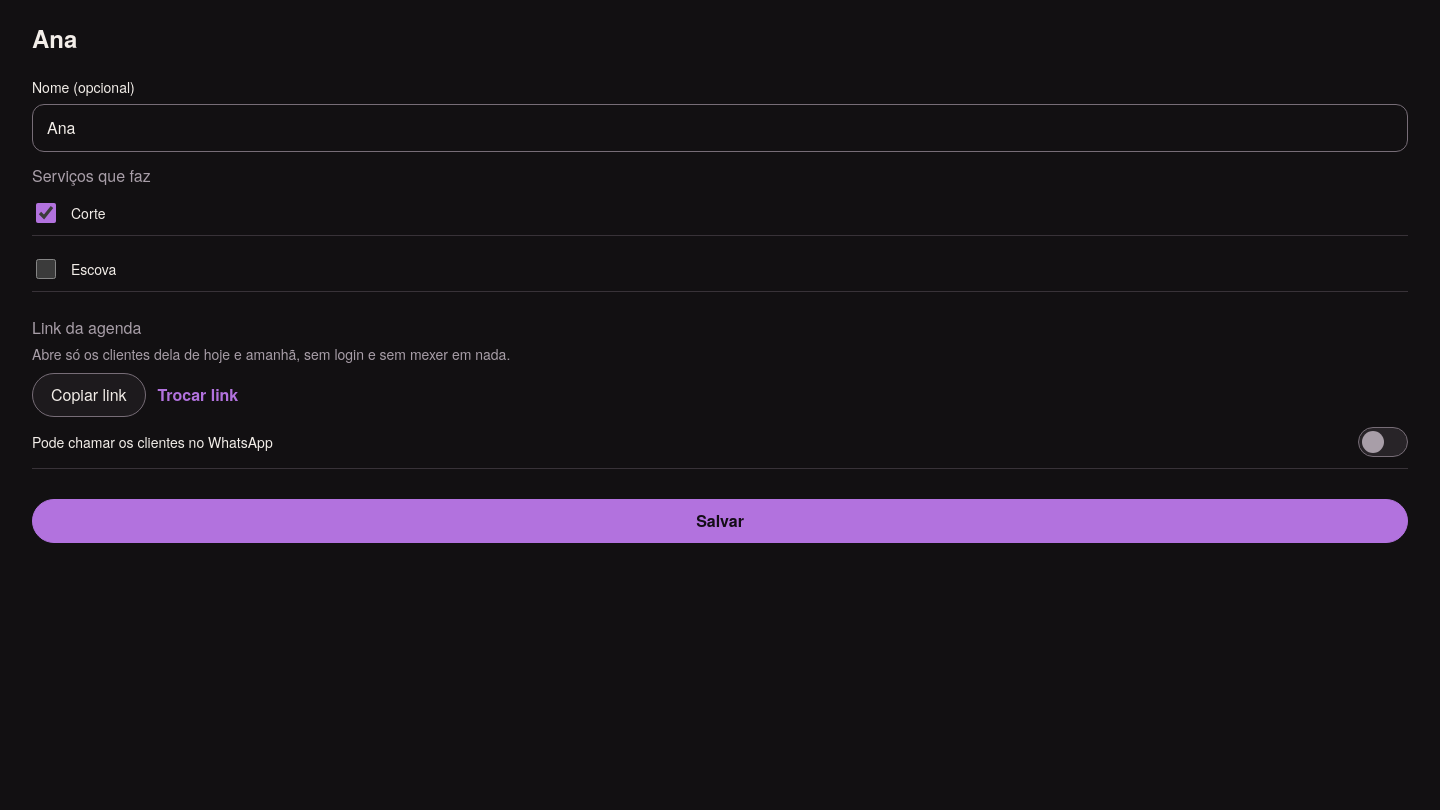
Scenario: PainelPessoa: link da agenda › "Copiar link" copia o endereço da agenda dela
Click the button "Copiar link" at (89, 395), box x1=32 y1=373 x2=146 y2=417
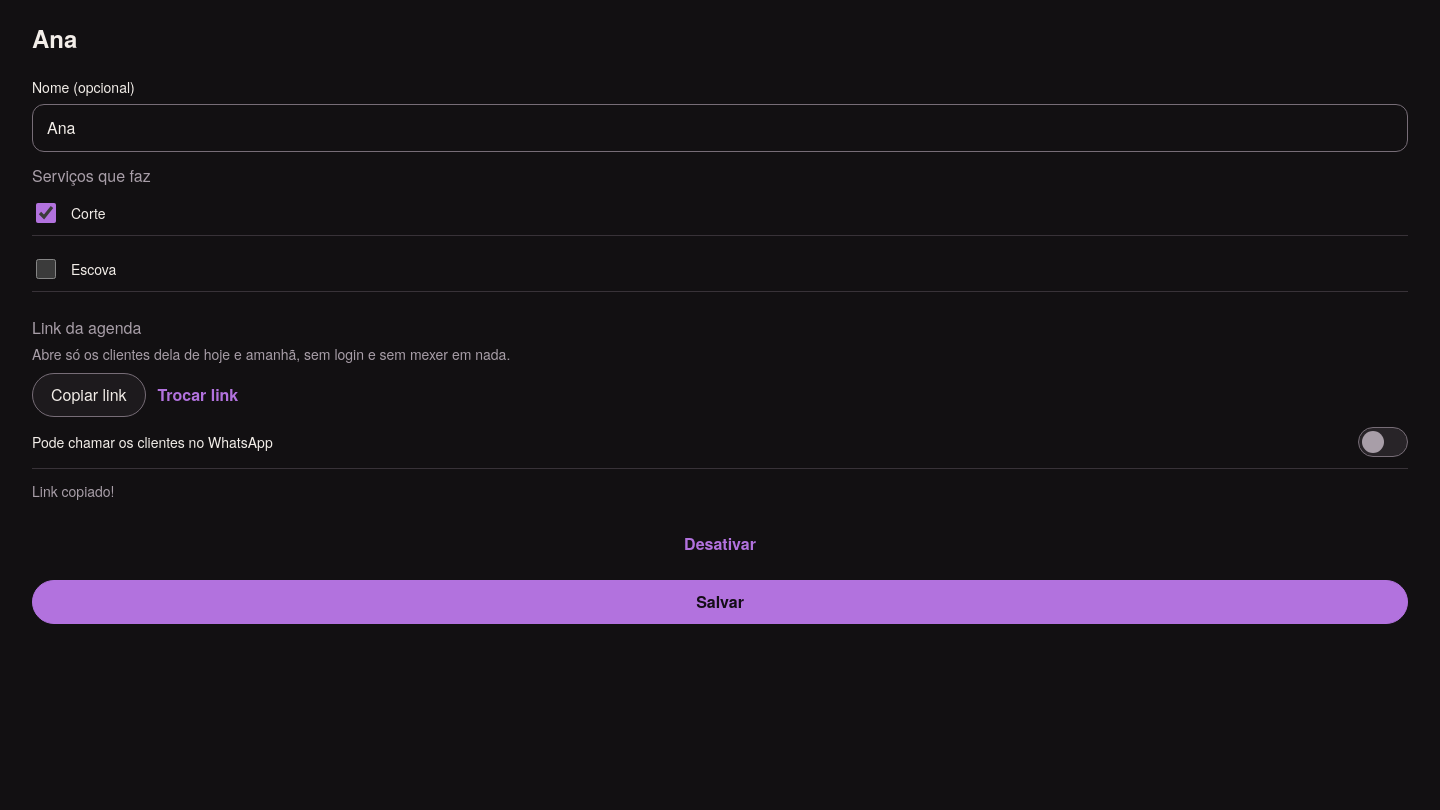
Now the text "Link copiado!" is shown, box x1=32 y1=481 x2=114 y2=501
